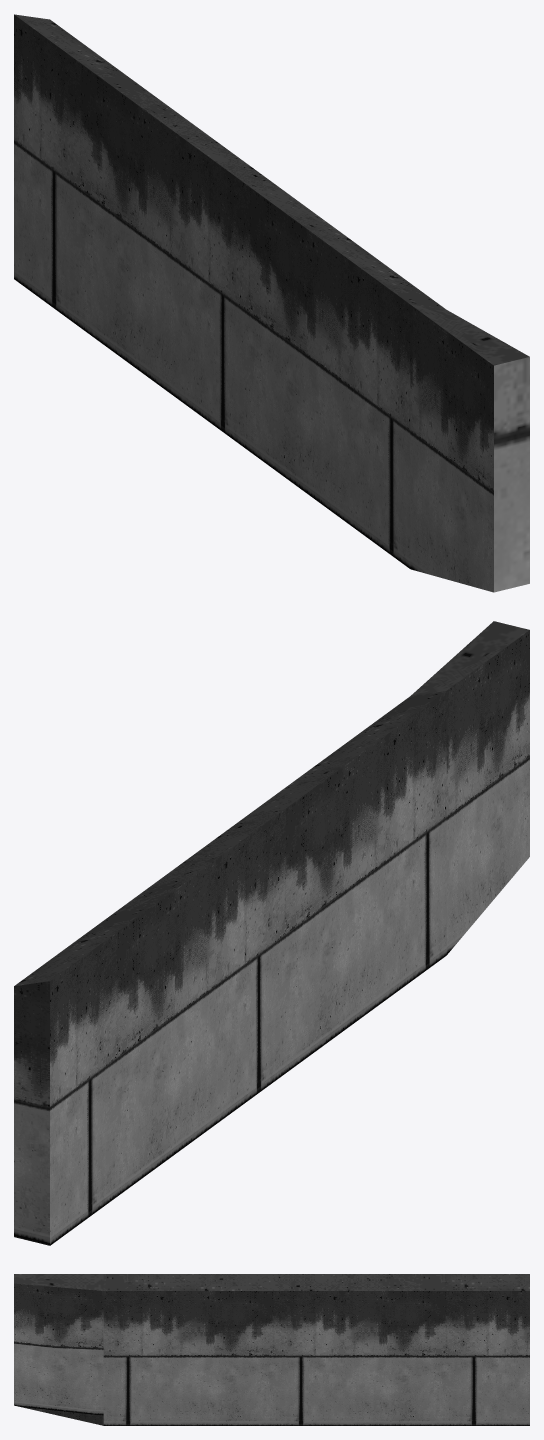
Rendered from NaveCentral_ObstaculoDash.fbx.
The picture shows the model from 3 angles, top to bottom: view 1: azimuth 30°, elevation 25°; view 2: azimuth 150°, elevation 25°; view 3: azimuth 270°, elevation 25°; orthographic projection. The views are drawn at different scales.
Visible parts, largest first — view 1: Cube.001; view 2: Cube.001; view 3: Cube.001.
Boxes of the visible parts, <box> form: Cube.001: <box>14,14,529,592</box>; Cube.001: <box>14,621,529,1245</box>; Cube.001: <box>14,1274,529,1425</box>.
Size of the model in its own units: 100 by 700 by 2300.
